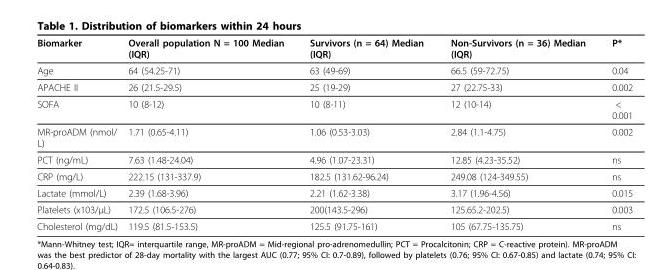table: (36, 36, 632, 231)
table column: (122, 36, 296, 231), (436, 36, 598, 231), (296, 36, 436, 231), (36, 36, 122, 231), (598, 36, 632, 231)
table column header: (36, 36, 632, 61)
table row: (36, 95, 632, 123), (36, 123, 632, 151), (36, 36, 632, 61), (36, 61, 632, 78), (36, 78, 632, 95), (36, 167, 632, 184), (36, 200, 632, 217), (36, 151, 632, 167), (36, 184, 632, 200), (36, 217, 632, 231)
